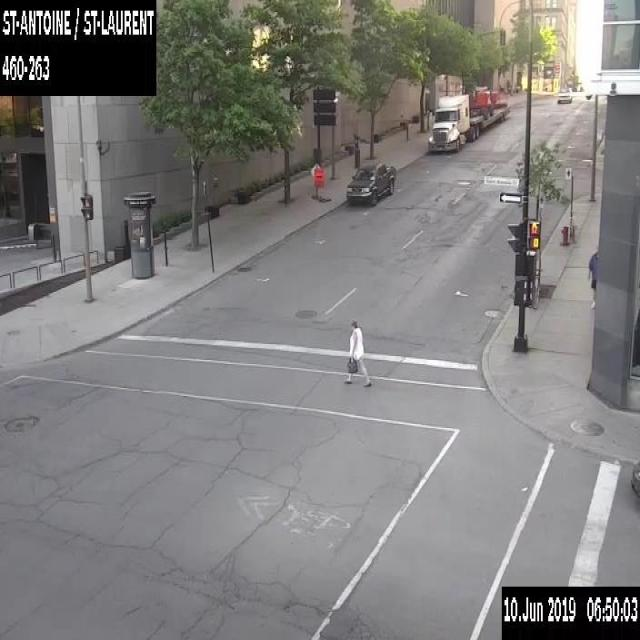construction: (314, 168, 324, 185)
pedestrian: (344, 320, 372, 388), (588, 252, 598, 311)
vehicle: (426, 85, 510, 152), (346, 163, 396, 204), (630, 457, 639, 500), (556, 85, 572, 103), (571, 220, 575, 245)
